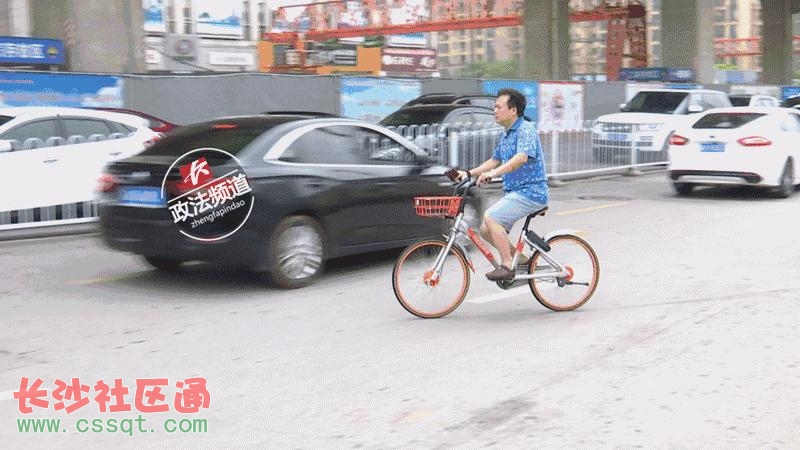other: (429, 77, 559, 312)
